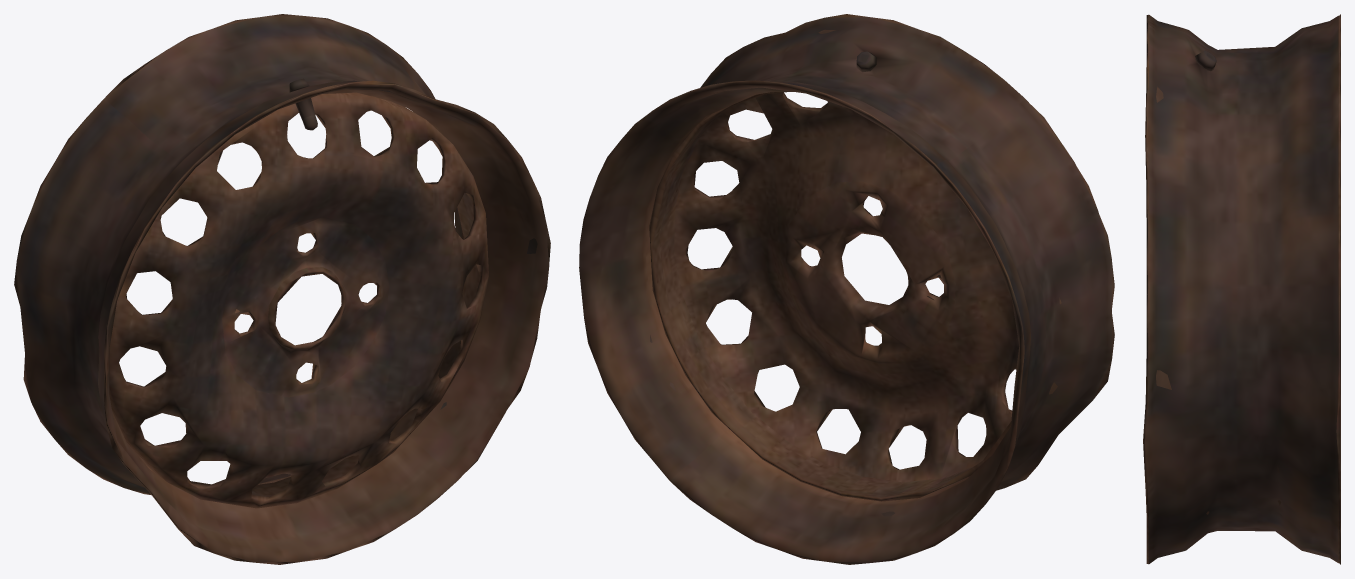
File: rusted_wheel_rim_02.gltf
3 renders of one model, left to right at view 1: azimuth 30°, elevation 25°; view 2: azimuth 150°, elevation 25°; view 3: azimuth 270°, elevation 25°, orthographic. The views are drawn at different scales.
Visible parts, largest first — view 1: rusted_wheel_rim_02; view 2: rusted_wheel_rim_02; view 3: rusted_wheel_rim_02.
Part boxes in pixels (x1=…): rusted_wheel_rim_02: x1=14, y1=14, x2=550, y2=564; rusted_wheel_rim_02: x1=579, y1=14, x2=1114, y2=564; rusted_wheel_rim_02: x1=1143, y1=14, x2=1340, y2=564.
Bounding box in the file's own units: 0.335 × 0.3383 × 0.1211.
1 material, 1 textured.
